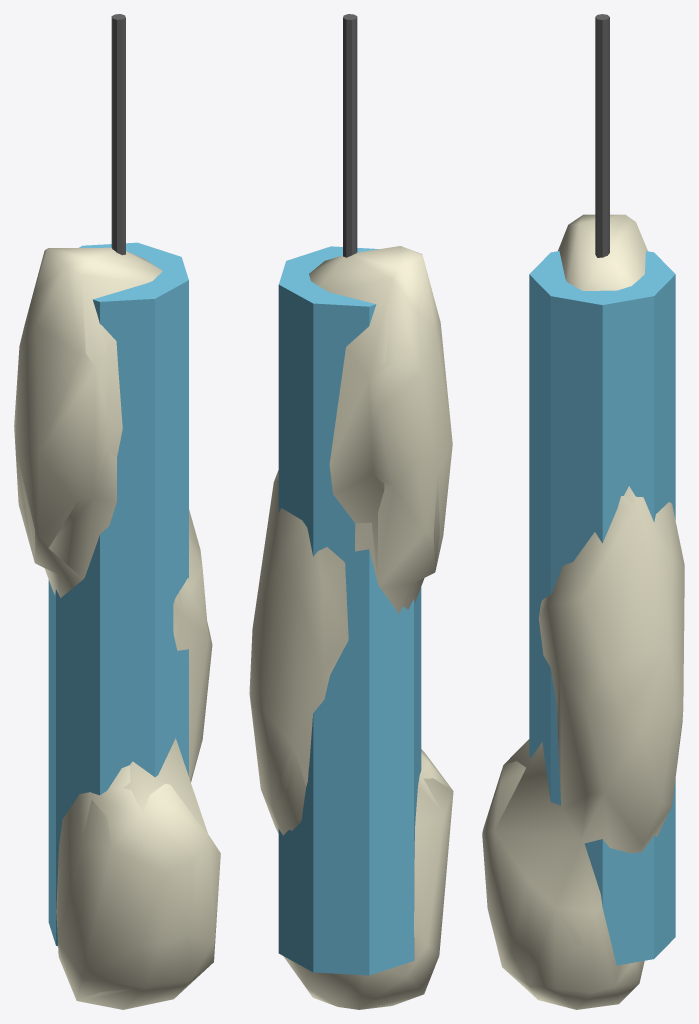
Rendered from item_sticky_dynamite.glb.
3 renders of one model, left to right at view 1: azimuth 30°, elevation 25°; view 2: azimuth 150°, elevation 25°; view 3: azimuth 270°, elevation 25°, orthographic.
Visible parts, largest first — view 1: Goop, Dynamite, Wick; view 2: Goop, Dynamite, Wick; view 3: Goop, Dynamite, Wick.
Boxes of the visible parts, x1,y1,x2,y2 form: Goop: [14, 247, 220, 1009]; Dynamite: [48, 242, 188, 946]; Wick: [111, 14, 125, 255]; Goop: [249, 246, 453, 1009]; Dynamite: [278, 246, 421, 975]; Wick: [343, 14, 357, 257]; Goop: [482, 214, 684, 1009]; Dynamite: [529, 251, 675, 965]; Wick: [595, 14, 609, 257].
Bounding box in the file's own units: 0.0721 × 0.3721 × 0.0693.
